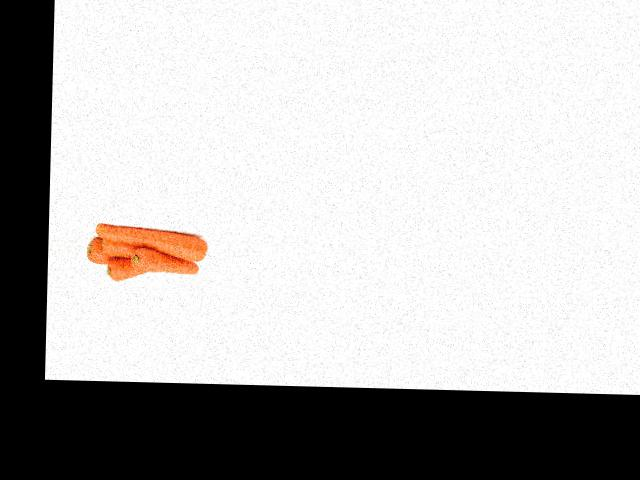carrot: (105, 255, 152, 280)
